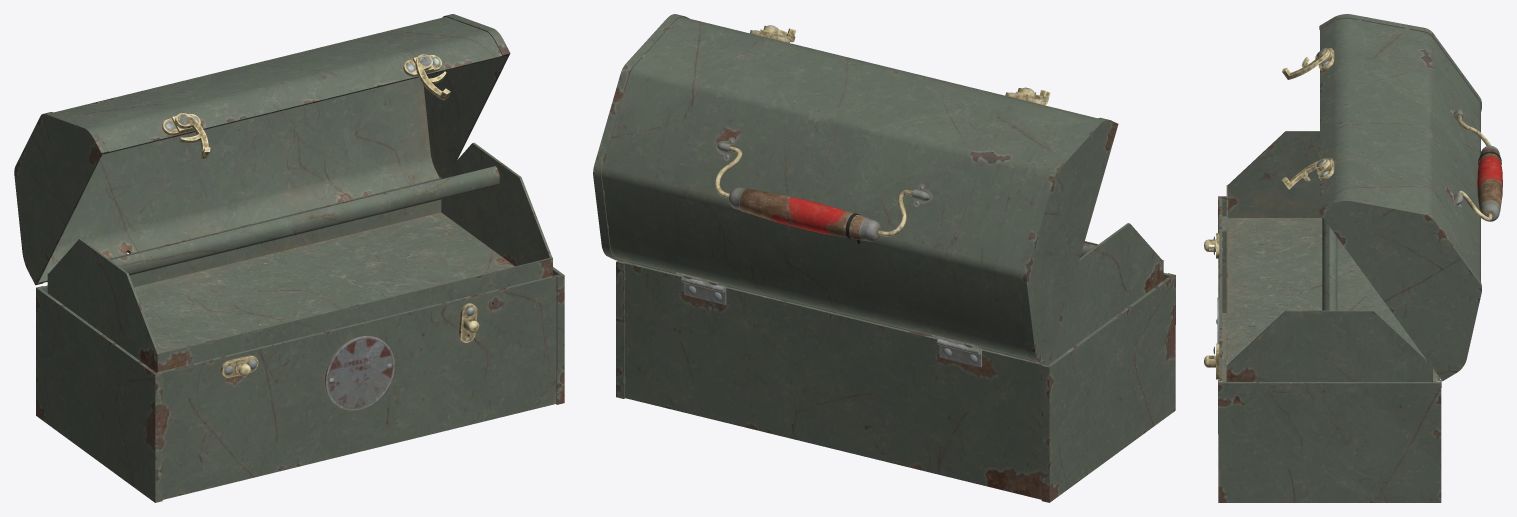
Rendered from metal_toolbox.glb.
3 views of the same model, side by side, from view 1: azimuth 30°, elevation 25°; view 2: azimuth 150°, elevation 25°; view 3: azimuth 270°, elevation 25° (orthographic). The views are drawn at different scales.
Size of the model in its own units: 0.4 by 0.3047 by 0.2705.
Materials: 1 (1 with a texture image).
